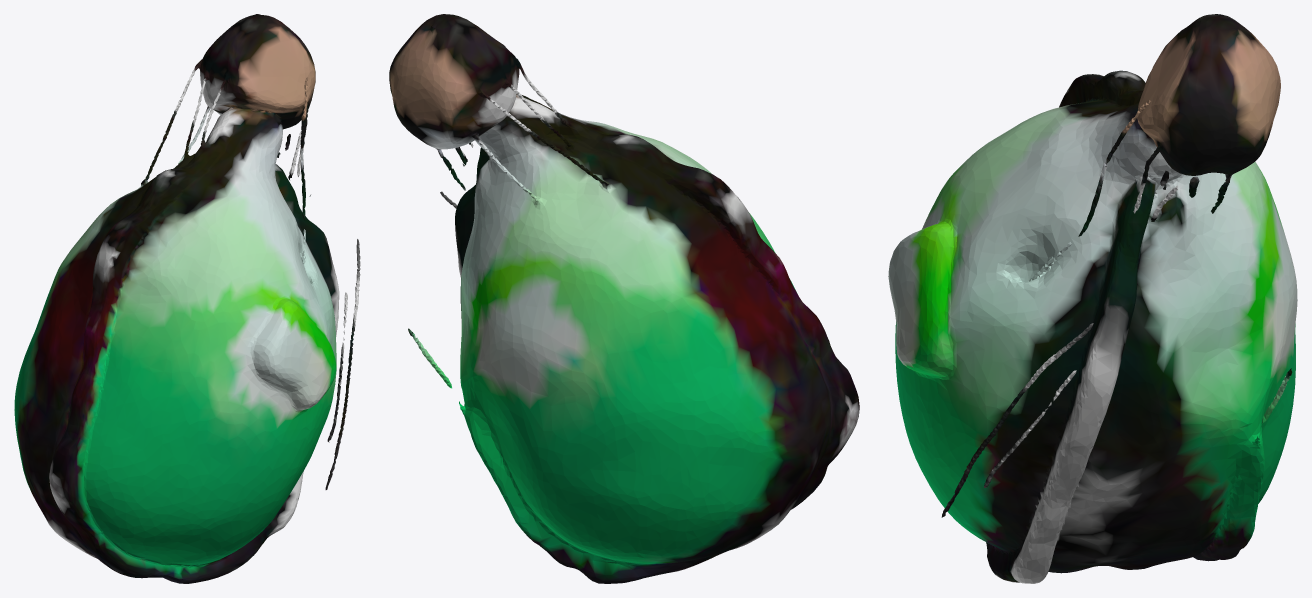
The model's file is water_emerald.glb.
3 renders of one model, left to right at view 1: azimuth 30°, elevation 25°; view 2: azimuth 150°, elevation 25°; view 3: azimuth 270°, elevation 25°, orthographic. The views are drawn at different scales.
Visible parts, largest first — view 1: geometry_0; view 2: geometry_0; view 3: geometry_0.
Part boxes in pixels (x1=…): geometry_0: x1=14, y1=14, x2=360, y2=583; geometry_0: x1=389, y1=14, x2=859, y2=583; geometry_0: x1=888, y1=14, x2=1297, y2=583.
Bounding box in the file's own units: 0.4375 × 0.5862 × 0.3444.
